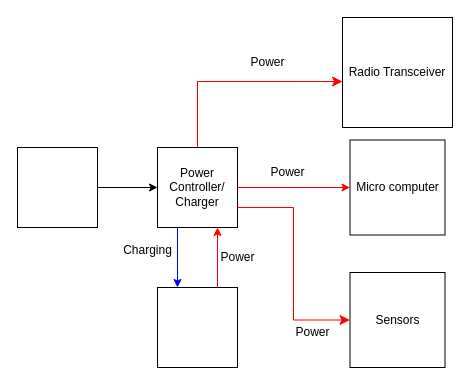
Some shapes in this 470 by 385 pixel diagram are drawn without their labels. The box of each missing label's shape, as (x1, y1, x2, y2) in pixels:
Rechargeable battery (i.e. Lead acid): (156, 286, 238, 368)
Solar panel: (16, 146, 98, 228)
